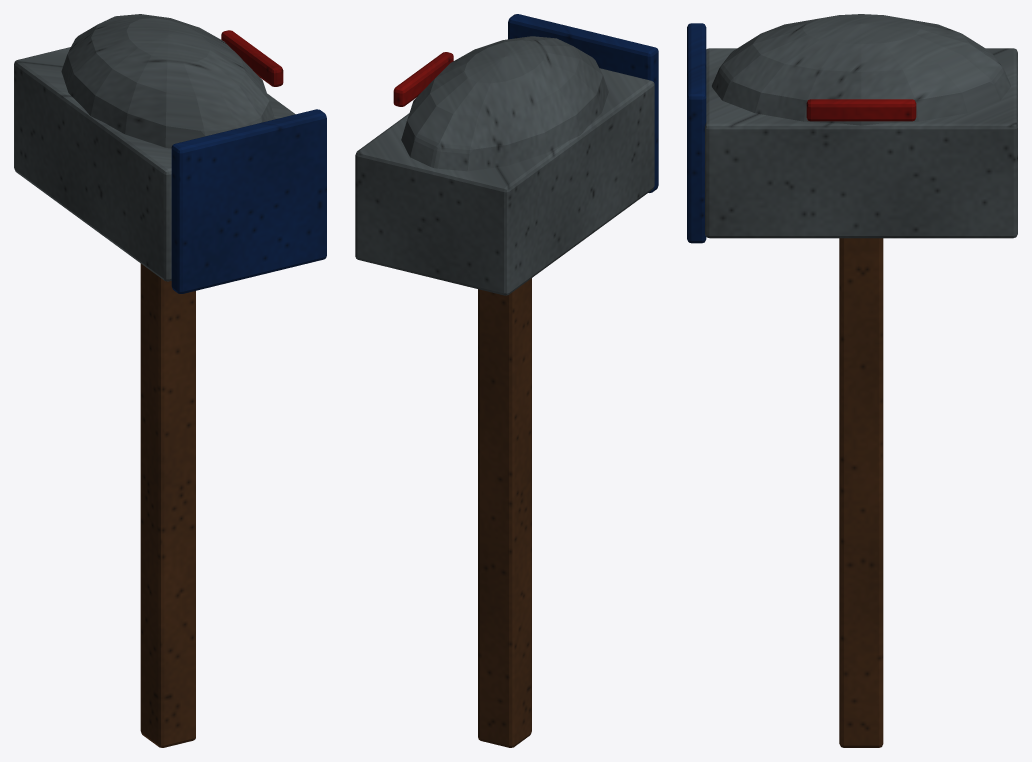
The model's file is PROP-31612EA52928_lod0.glb.
3 views of the same model, side by side, from view 1: azimuth 30°, elevation 25°; view 2: azimuth 150°, elevation 25°; view 3: azimuth 270°, elevation 25° (orthographic). The views are drawn at different scales.
Visible parts, largest first — view 1: mail_post, mailbox_door, mailbox_lower, mailbox_round_roof, mailbox_flag; view 2: mailbox_lower, mail_post, mailbox_round_roof, mailbox_door, mailbox_flag; view 3: mailbox_lower, mailbox_round_roof, mail_post, mailbox_door, mailbox_flag.
Part boxes in pixels (box(x1,y1,x2,y2)): mail_post: box(140, 263, 195, 747); mailbox_door: box(171, 109, 326, 293); mailbox_lower: box(14, 47, 295, 281); mailbox_round_roof: box(61, 14, 274, 148); mailbox_flag: box(221, 30, 283, 86); mailbox_lower: box(355, 68, 654, 295); mail_post: box(478, 278, 531, 747); mailbox_round_roof: box(401, 36, 608, 171); mailbox_door: box(508, 14, 658, 192); mailbox_flag: box(393, 52, 453, 106); mailbox_lower: box(705, 48, 1017, 238); mailbox_round_roof: box(712, 14, 1010, 125); mail_post: box(839, 238, 883, 747); mailbox_door: box(687, 23, 706, 243); mailbox_flag: box(806, 99, 916, 121).
Bounding box in the file's own units: 0.3625 × 1.44 × 0.6025.
Materials: 4 (4 with a texture image).
